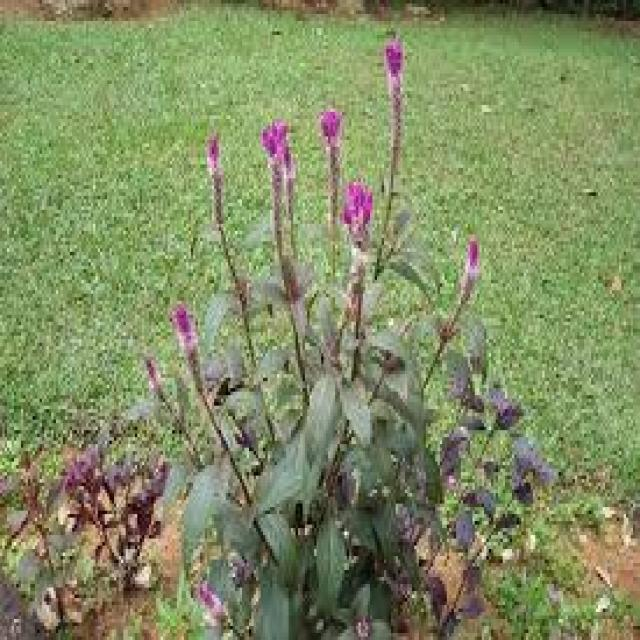Celosia-Argentea: (260, 105, 302, 262), (344, 168, 384, 329), (160, 262, 204, 388), (375, 21, 412, 147), (198, 136, 235, 238), (319, 91, 344, 224), (445, 210, 484, 294), (135, 346, 179, 409)
